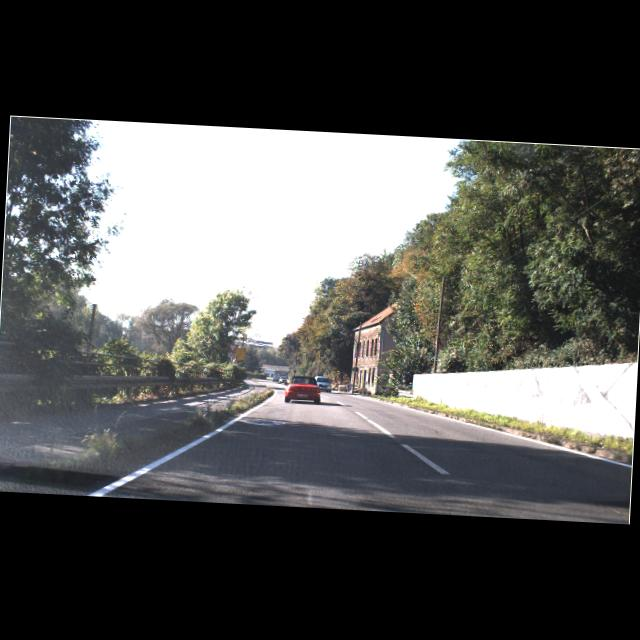other: (228, 342, 238, 352)
